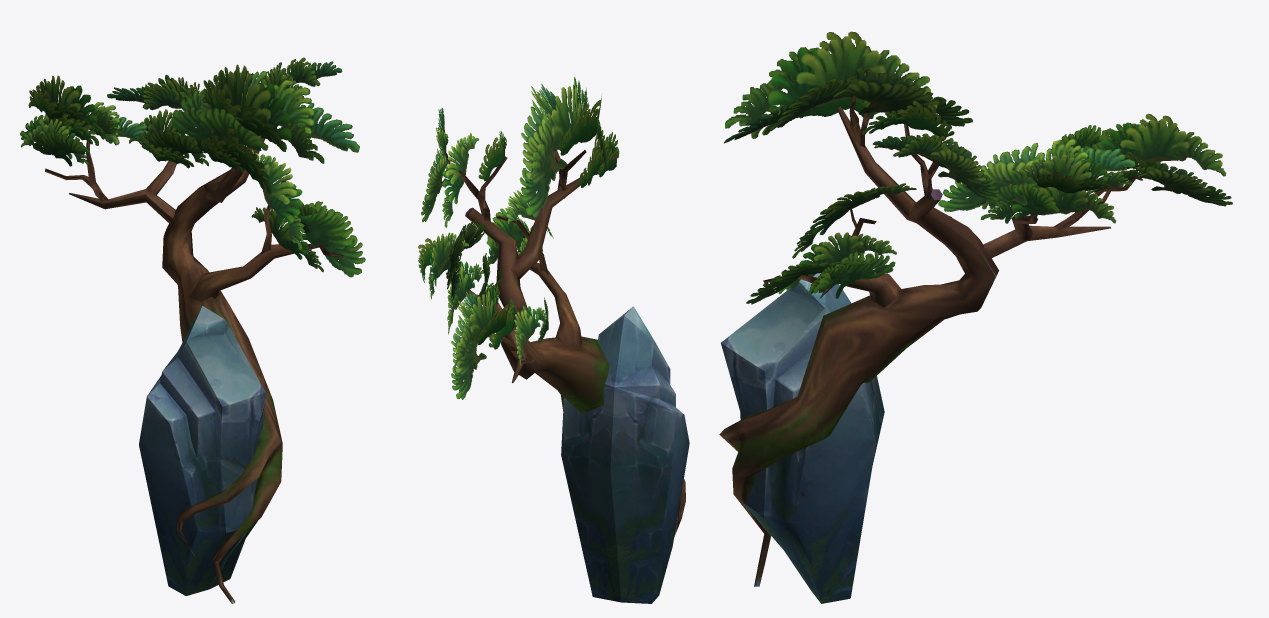
File: map_111_shitou_12.fbx
The picture shows the model from 3 angles, left to right: view 1: azimuth 30°, elevation 25°; view 2: azimuth 150°, elevation 25°; view 3: azimuth 270°, elevation 25°; orthographic projection. The views are drawn at different scales.
Parts seen in each view (by area): view 1: jxjj_zhiwu05 (7*; view 2: jxjj_zhiwu05 (7*; view 3: jxjj_zhiwu05 (7*.
Part boxes in pixels (bbox=[...]): jxjj_zhiwu05 (7*: bbox=[20, 57, 365, 603]; jxjj_zhiwu05 (7*: bbox=[418, 77, 689, 603]; jxjj_zhiwu05 (7*: bbox=[719, 31, 1232, 603].
Size of the model in its own units: 2.96 by 6.81 by 5.39.
